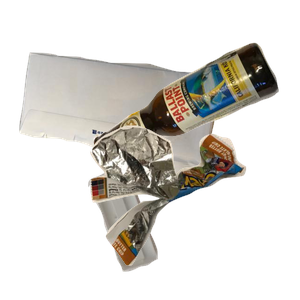glass: (91, 40, 300, 190)
paper: (17, 50, 231, 230)
plastic: (85, 163, 235, 300)
trash: (88, 123, 300, 300)
